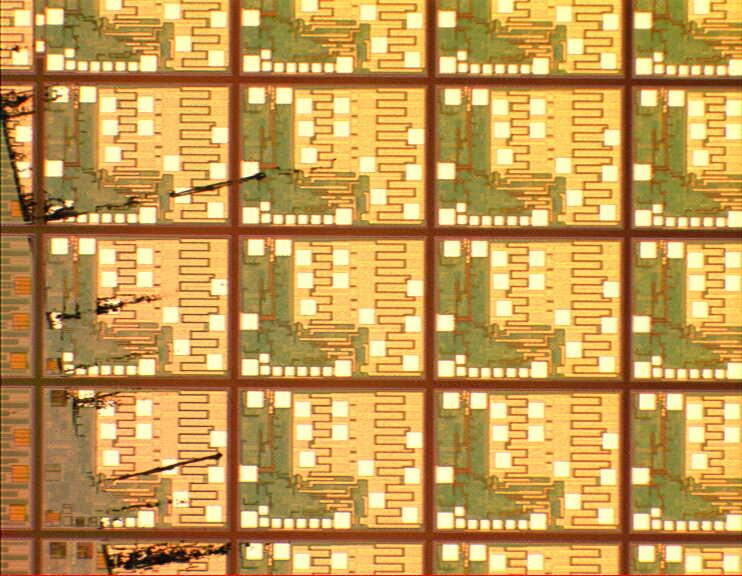SCRATCH: (1, 84, 345, 576)
